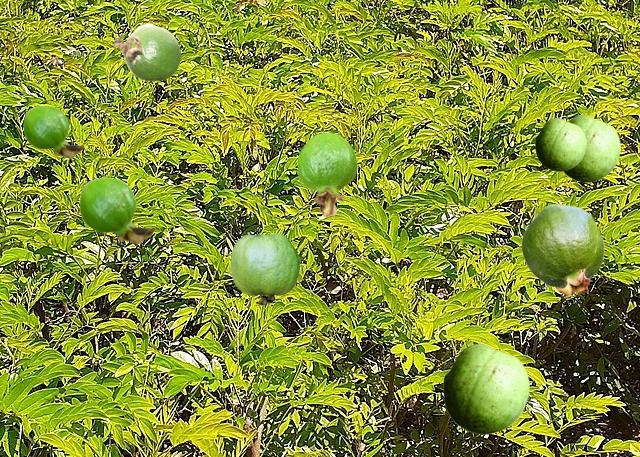guava: (521, 204, 603, 297), (443, 344, 528, 433), (297, 132, 356, 216), (79, 177, 154, 243), (230, 233, 299, 304), (113, 23, 180, 80), (562, 115, 619, 181), (23, 105, 83, 157), (535, 118, 585, 170)
